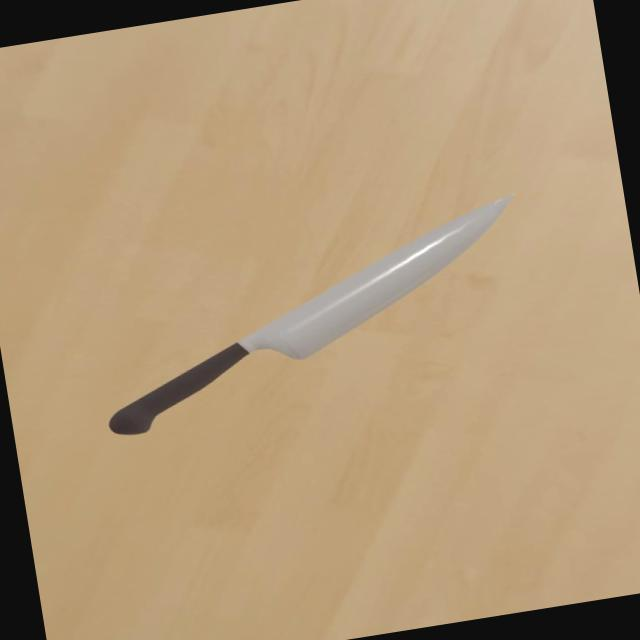knife: (100, 338, 264, 438)
